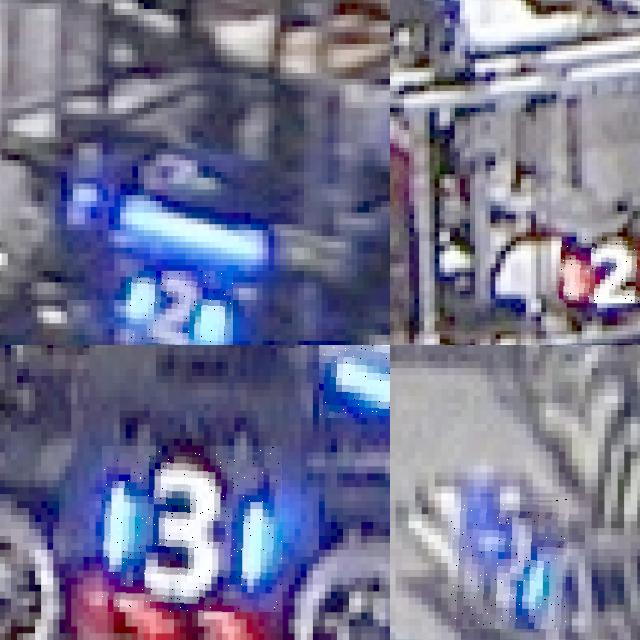B2: (451, 497, 569, 629), (126, 270, 232, 345)
B3: (102, 446, 282, 612), (319, 345, 390, 417)
R2: (556, 236, 640, 303)
